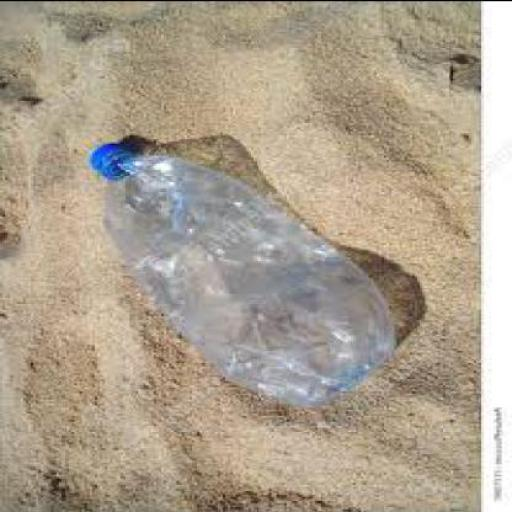plastic: (87, 138, 392, 402), (89, 140, 131, 175)
